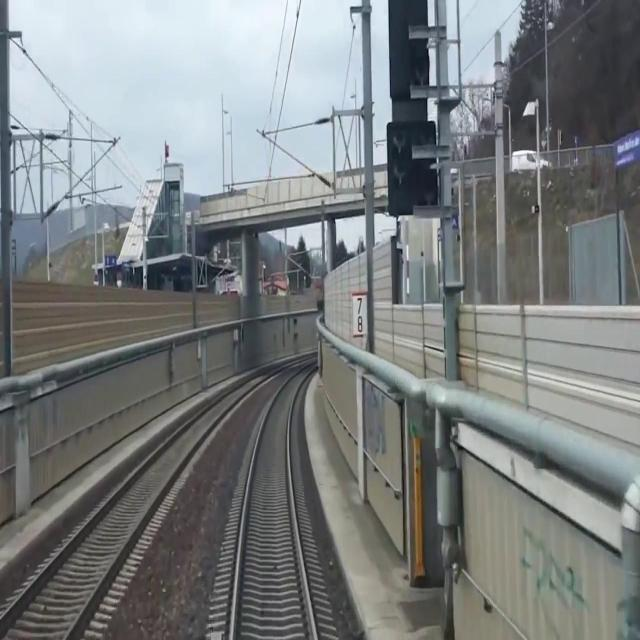rail-track: (0, 386, 245, 639), (234, 370, 313, 639)
